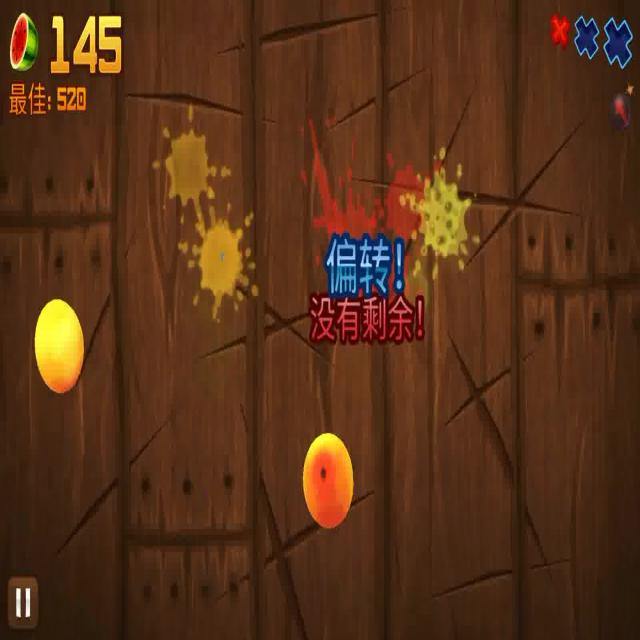fruit: (301, 428, 355, 532), (34, 296, 86, 402)
